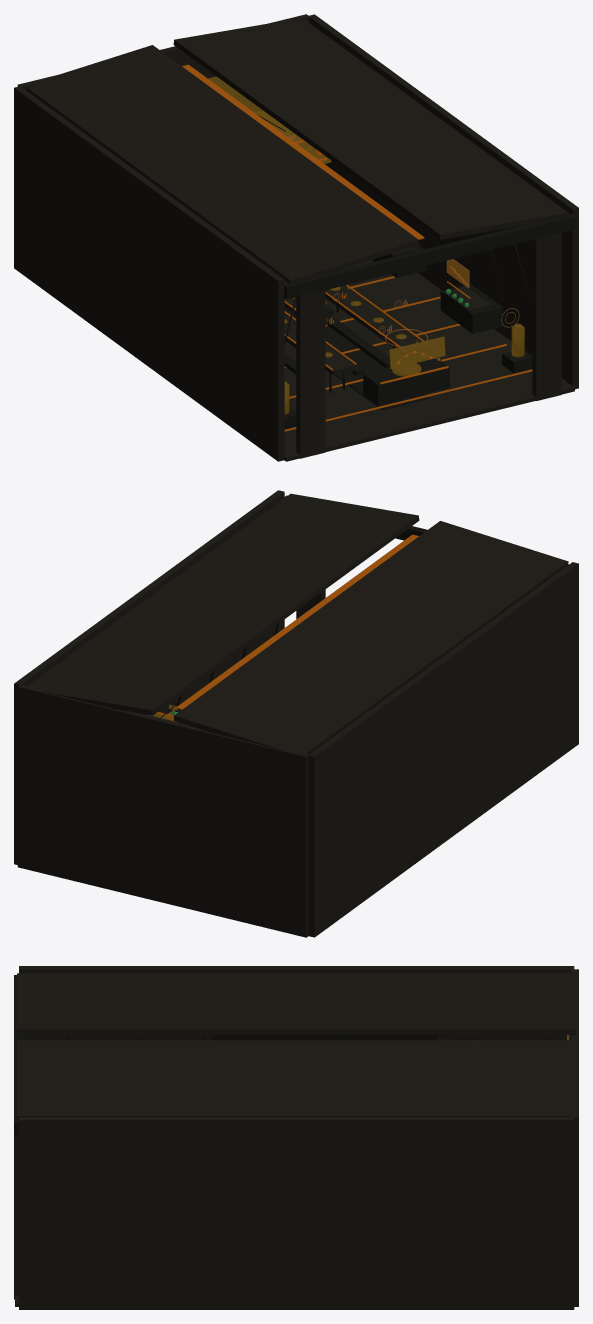
Rendered from nutrition-int.glb.
3 renders of one model, top to bottom at view 1: azimuth 30°, elevation 25°; view 2: azimuth 150°, elevation 25°; view 3: azimuth 270°, elevation 25°, orthographic. The views are drawn at different scales.
Visible parts, largest first — view 1: room_shell_base_joined, room_shell_detail_joined, room_shell_emissive_joined, communal_tables_base_joined, ai_scan_station_detail_joined, chef_prep_detail_joined, communal_tables_detail_joined, ai_scan_station_glass_joined, living_market_glass_joined, hydration_detail_joined, chef_prep_base_joined, hydration_glass_joined (+1 smaller); view 2: room_shell_base_joined, room_shell_emissive_joined; view 3: room_shell_base_joined, adaptive_calorie_wall_detail_joined, room_shell_detail_joined.
Boxes of the visible parts, <box> form: room_shell_base_joined: <box>14,14,578,461</box>; room_shell_detail_joined: <box>284,164,575,410</box>; room_shell_emissive_joined: <box>182,64,532,431</box>; communal_tables_base_joined: <box>284,281,420,375</box>; ai_scan_station_detail_joined: <box>363,358,449,405</box>; chef_prep_detail_joined: <box>372,245,502,333</box>; communal_tables_detail_joined: <box>284,291,421,392</box>; ai_scan_station_glass_joined: <box>389,336,445,376</box>; living_market_glass_joined: <box>208,76,331,163</box>; hydration_detail_joined: <box>284,350,532,429</box>; chef_prep_base_joined: <box>390,247,491,311</box>; hydration_glass_joined: <box>284,323,524,414</box>; room_shell_base_joined: <box>14,490,578,937</box>; room_shell_emissive_joined: <box>176,534,418,709</box>; room_shell_base_joined: <box>14,966,578,1309</box>; adaptive_calorie_wall_detail_joined: <box>211,1035,437,1040</box>; room_shell_detail_joined: <box>14,975,547,1135</box>.
Bounding box in the file's own units: 8.54 × 5.12 × 13.23.
